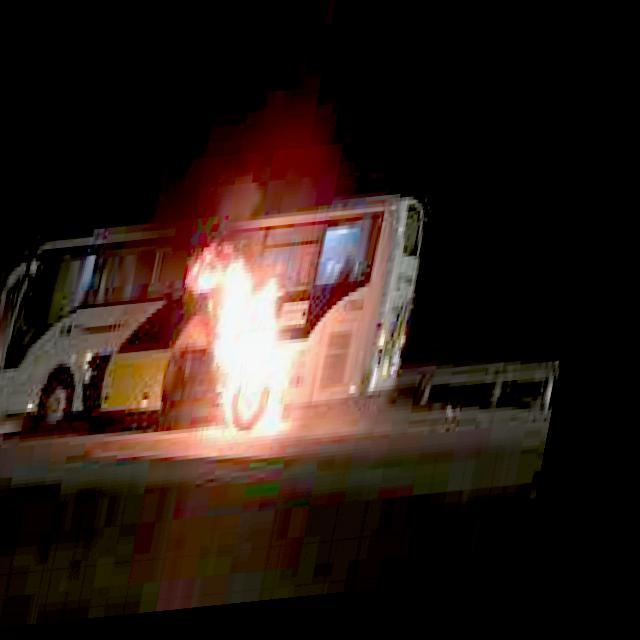Fire: (170, 228, 348, 460)
